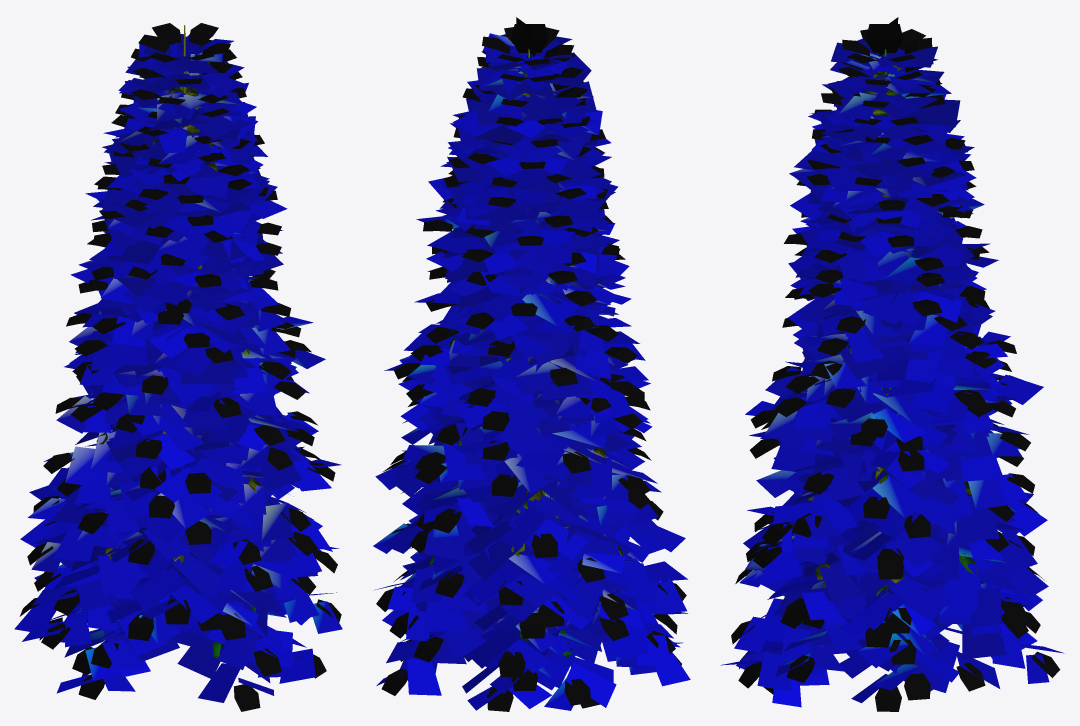
Rendered from tree_spruce_1.glb.
3 renders of one model, left to right at view 1: azimuth 30°, elevation 25°; view 2: azimuth 150°, elevation 25°; view 3: azimuth 270°, elevation 25°, orthographic.
Parts seen in each view (by area): view 1: lod1_spruce_1; view 2: lod1_spruce_1; view 3: lod1_spruce_1.
Boxes of the visible parts, x1,y1,x2,y2 form: lod1_spruce_1: (14,23,342,711); lod1_spruce_1: (373,17,690,711); lod1_spruce_1: (720,17,1063,711).
Size of the model in its own units: 6.2 by 12.89 by 6.27.
